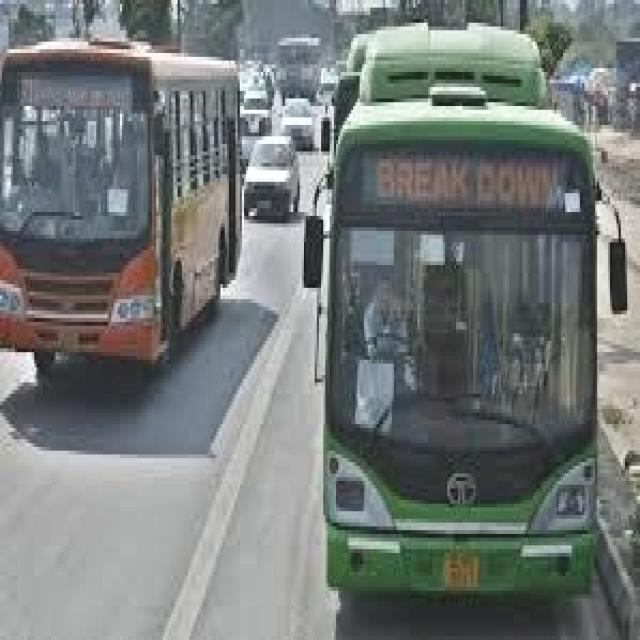bus: (305, 20, 631, 634), (1, 25, 256, 390)
